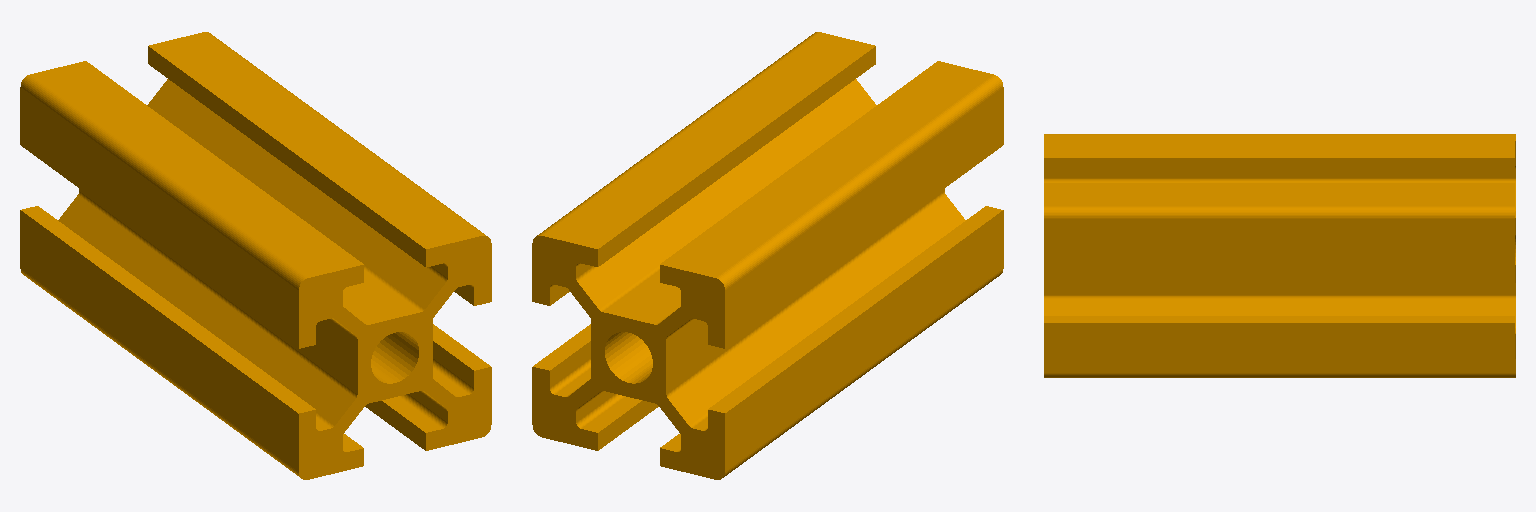
The robot description file, URDF, robot "F40_40_B":
<robot name="F40_40_B">  
  <link name="base_link">
    <collision>
      <geometry>
        <box size="0.04 0.04 0.1"/>
      </geometry>
        <origin xyz="0 0 0.02" rpy="0 1.5707 1.5707"/>
    </collision>

    <visual>
      <geometry>
        <mesh filename="package://suii_simulation/meshes/4040_alu_profile.stl"/>
      </geometry>
        <origin xyz="0.02 -0.05 0.04" rpy="0 1.5707 1.5707"/>
    </visual>

    <inertial>
      <origin xyz="0.02 -0.05 0.04" rpy="0 1.5707 1.5707"/>
      <mass value="1"/>
      <inertia
        ixx="1" ixy="0.0" ixz="0.0"
        iyy="1" iyz="0.0"
        izz="1"/>
    </inertial>
  </link>

  <gazebo reference="base_link">
    <material>Gazebo/Black</material>
  </gazebo>  
</robot>

--- What the picture shows (computed from the rendered views, not written in the file) ---
Views: 3 orthographic renders of the robot side by side, from view 1: azimuth 30°, elevation 25°; view 2: azimuth 150°, elevation 25°; view 3: azimuth 270°, elevation 25°.
Robot: F40_40_B — 1 links, 0 joints (none); root link base_link; default pose: all joints at 0.
Visible links, largest first — view 1: base_link; view 2: base_link; view 3: base_link.
Link boxes in pixels (x1,y1,x2,y2): base_link: (20, 32, 491, 479); base_link: (532, 32, 1003, 479); base_link: (1044, 134, 1515, 377).
Bounding box of the posed robot: 0.04 × 0.1 × 0.04 m (x, y, z).
1 mesh visuals loaded from 1 distinct referenced files (1 binary STL).